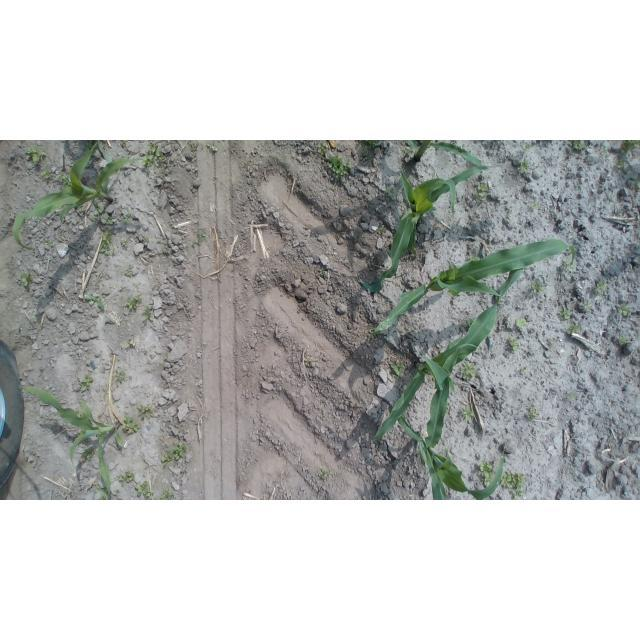Maize: (367, 238, 578, 335), (371, 303, 502, 449), (383, 348, 507, 498), (361, 162, 490, 294), (16, 141, 144, 253), (21, 380, 131, 498)
Weeds: (160, 439, 188, 470), (500, 472, 527, 499), (39, 168, 75, 188), (141, 144, 169, 168), (324, 157, 349, 180), (477, 459, 495, 486), (98, 231, 116, 257), (96, 482, 120, 500), (94, 206, 114, 227), (85, 293, 107, 312), (24, 146, 46, 164), (134, 481, 155, 499), (121, 416, 139, 437), (136, 402, 154, 423), (361, 141, 383, 158), (389, 359, 407, 379), (460, 362, 478, 381), (460, 402, 477, 422), (531, 278, 550, 295), (119, 468, 136, 485), (160, 487, 181, 500), (193, 229, 207, 248), (126, 294, 142, 310), (122, 336, 139, 351), (527, 403, 541, 421), (505, 336, 521, 351), (593, 279, 607, 296), (475, 183, 487, 202), (615, 334, 629, 350), (516, 160, 529, 177), (622, 140, 640, 152), (79, 373, 91, 391), (143, 305, 155, 322), (562, 257, 575, 272), (565, 322, 579, 335), (82, 447, 94, 462), (619, 301, 630, 317), (44, 237, 57, 250), (561, 307, 574, 320), (579, 299, 593, 311), (22, 273, 34, 287), (572, 141, 587, 152), (117, 368, 127, 384), (123, 213, 137, 224), (630, 172, 638, 190), (319, 469, 332, 480), (125, 266, 136, 279), (566, 392, 578, 403), (515, 319, 526, 330), (316, 145, 327, 156), (305, 357, 315, 369), (522, 143, 533, 153), (378, 224, 387, 236), (206, 144, 218, 153), (402, 147, 412, 157), (519, 365, 528, 376), (387, 187, 396, 198), (120, 238, 129, 249), (599, 146, 609, 155), (617, 159, 626, 169), (161, 247, 171, 256), (530, 201, 538, 212), (76, 411, 84, 418), (507, 210, 513, 219)
